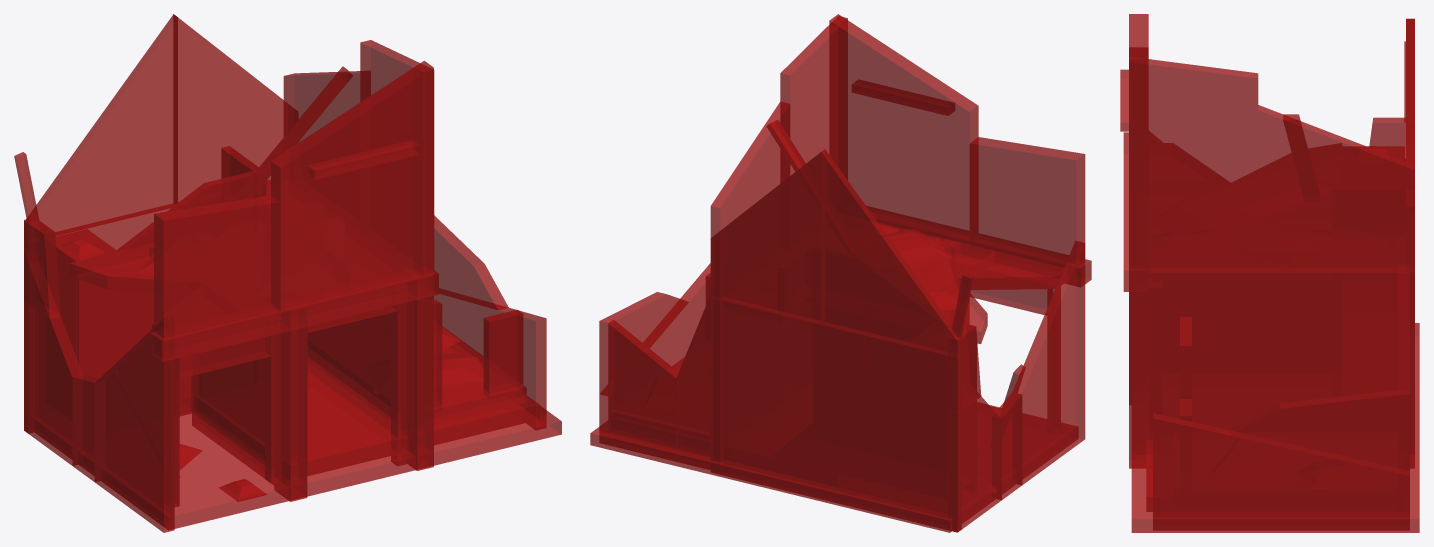
The model's file is SM_Bld_Shop_01_Destroyed_Collision.fbx.
3 renders of one model, left to right at view 1: azimuth 30°, elevation 25°; view 2: azimuth 150°, elevation 25°; view 3: azimuth 270°, elevation 25°, orthographic. The views are drawn at different scales.
Visible parts, largest first — view 1: SM_Bld_Shop_01_Destroyed_Collision; view 2: SM_Bld_Shop_01_Destroyed_Collision; view 3: SM_Bld_Shop_01_Destroyed_Collision.
Boxes of the visible parts, left/top/right/bottom form: SM_Bld_Shop_01_Destroyed_Collision: left=14, top=14, right=561, bottom=532; SM_Bld_Shop_01_Destroyed_Collision: left=590, top=14, right=1091, bottom=532; SM_Bld_Shop_01_Destroyed_Collision: left=1120, top=14, right=1419, bottom=532.
Size of the model in its own units: 975 by 904 by 600.
